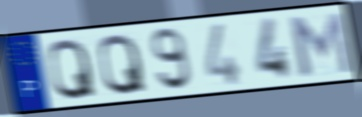4: (253, 14, 293, 83), (204, 20, 243, 87)
9: (149, 25, 195, 93)
M: (285, 10, 355, 79)
Q: (46, 36, 98, 102), (97, 32, 149, 97)
